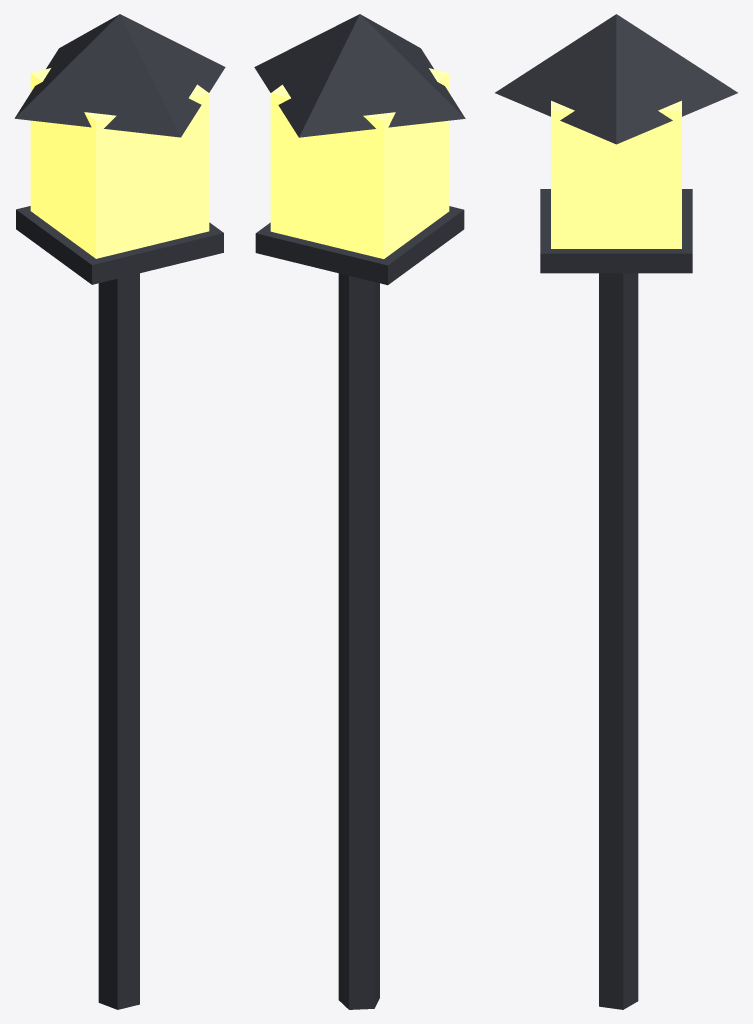
File: lantern_post.glb
3 renders of one model, left to right at view 1: azimuth 30°, elevation 25°; view 2: azimuth 150°, elevation 25°; view 3: azimuth 270°, elevation 25°, orthographic.
Visible parts, largest first — view 1: lantern_post; view 2: lantern_post; view 3: lantern_post.
Boxes of the visible parts, box(x1,y1,x2,y2) form: lantern_post: box(14, 14, 225, 1009); lantern_post: box(254, 14, 465, 1009); lantern_post: box(495, 14, 737, 1009).
Bounding box in the file's own units: 0.56 × 2.5 × 0.56.
